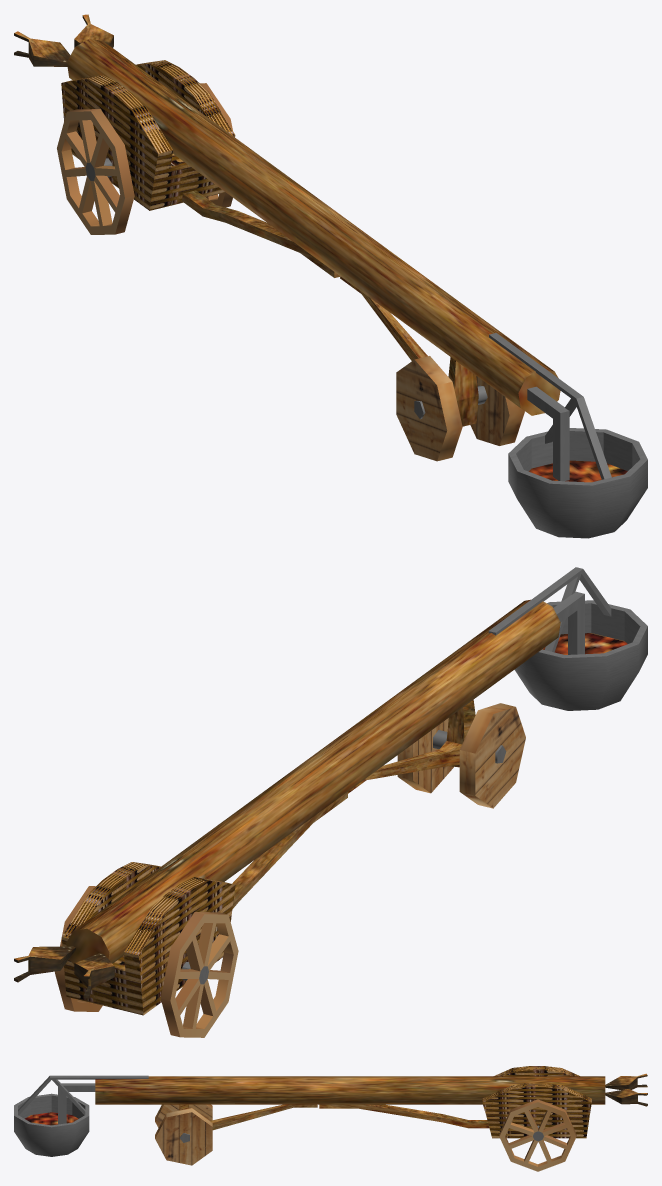
File: fireraiser.dae
3 views of the same model, one above another, from view 1: azimuth 30°, elevation 25°; view 2: azimuth 150°, elevation 25°; view 3: azimuth 270°, elevation 25° (orthographic). The views are drawn at different scales.
Parts seen in each view (by area): view 1: fireraiser; view 2: fireraiser; view 3: fireraiser.
Part boxes in pixels (x1,y1,x2,y2): fireraiser: (14, 14, 647, 538); fireraiser: (14, 567, 647, 1037); fireraiser: (14, 1066, 647, 1171).
Bounding box in the file's own units: 2.85 × 3.13 × 22.78.
